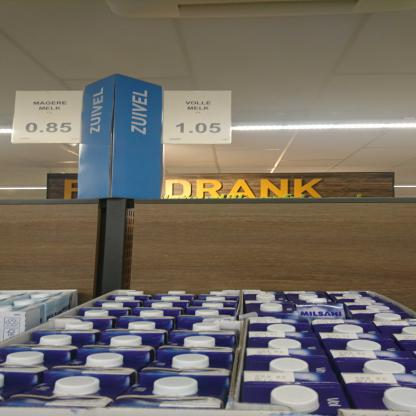prtg: (11, 92, 85, 145), (162, 91, 234, 145)
